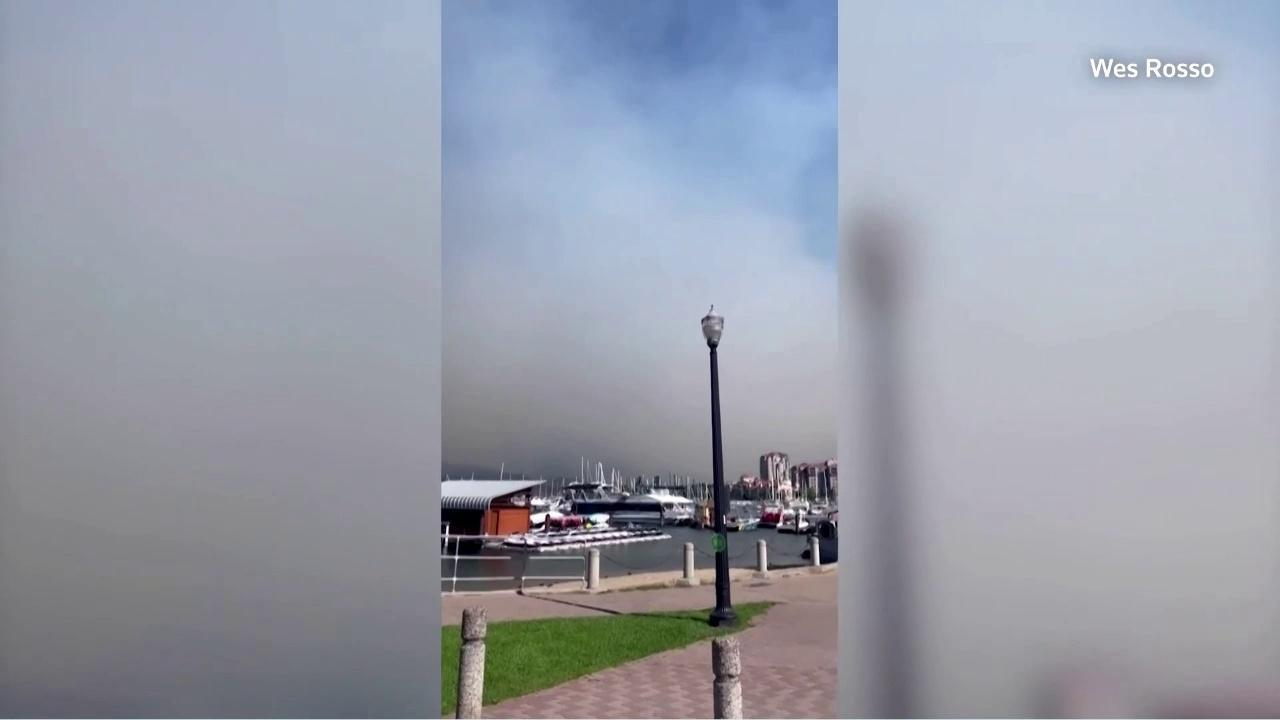smoke: (443, 0, 838, 484)
